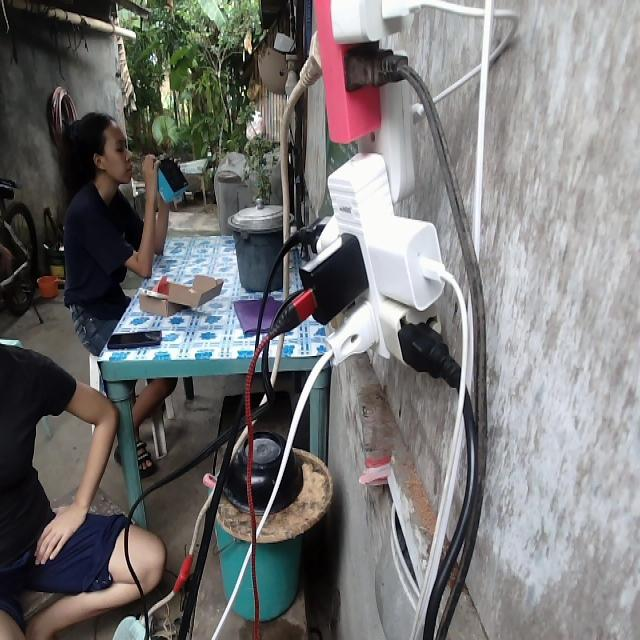-: (283, 0, 462, 369)
